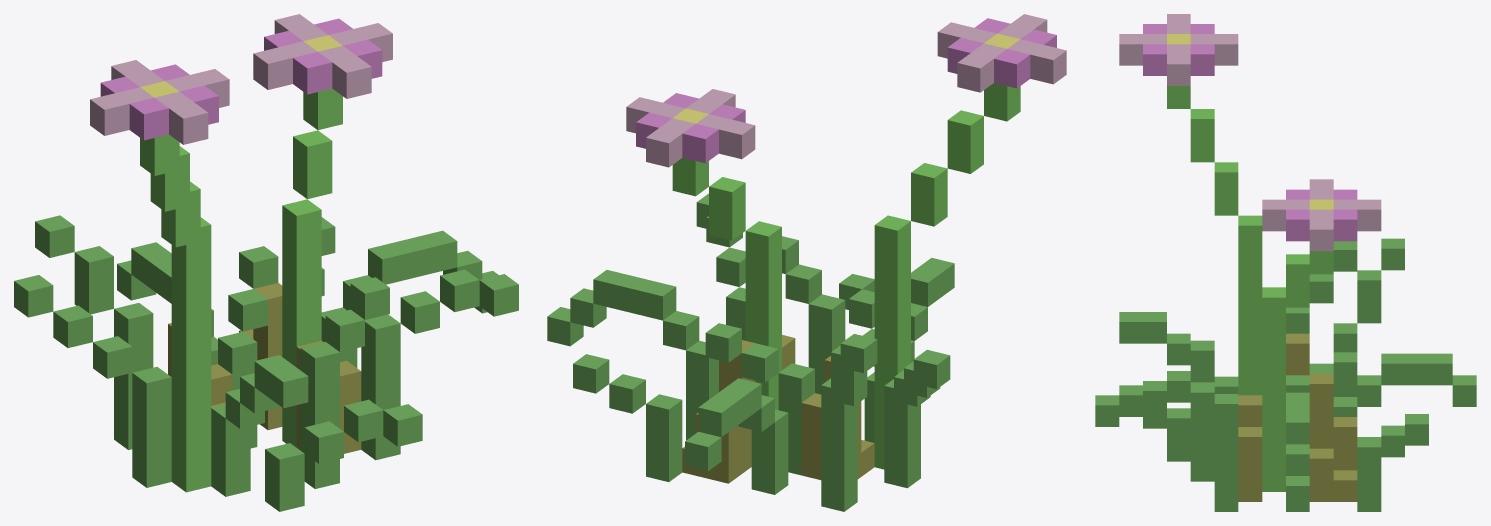
The model's file is Grass_c_v1.fbx.
3 views of the same model, side by side, from view 1: azimuth 30°, elevation 25°; view 2: azimuth 150°, elevation 25°; view 3: azimuth 270°, elevation 25° (orthographic). The views are drawn at different scales.
Parts seen in each view (by area): view 1: grassc; view 2: grassc; view 3: grassc.
Part boxes in pixels (x1,y1,x2,y2): grassc: (14,14,518,511); grassc: (547,14,1066,511); grassc: (1095,14,1476,511).
Size of the model in its own units: 19 by 17 by 16.
